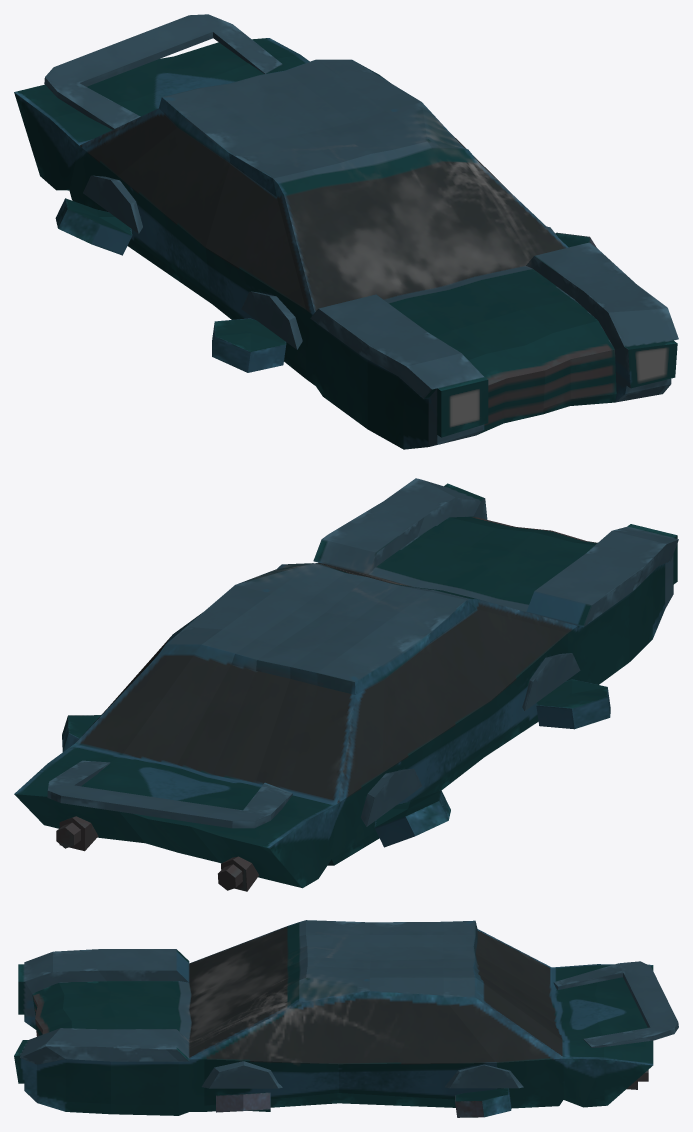
File: Cybercar.fbx
The picture shows the model from 3 angles, top to bottom: view 1: azimuth 30°, elevation 25°; view 2: azimuth 150°, elevation 25°; view 3: azimuth 270°, elevation 25°; orthographic projection. The views are drawn at different scales.
Parts seen in each view (by area): view 1: CyberCar; view 2: CyberCar; view 3: CyberCar.
Boxes of the visible parts, x1=… form: CyberCar: x1=14, y1=14, x2=678, y2=449; CyberCar: x1=14, y1=478, x2=678, y2=891; CyberCar: x1=14, y1=920, x2=678, y2=1117.
Size of the model in its own units: 241 by 88.57 by 469.
Materials: 1 (1 with a texture image).
